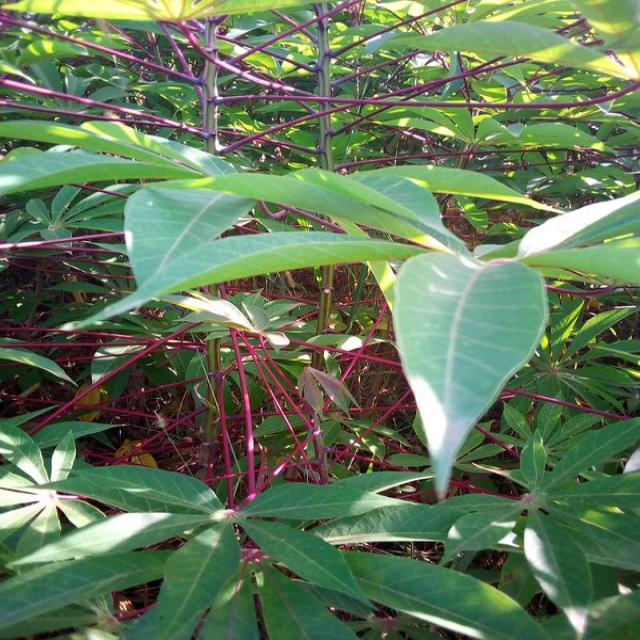cassava leaf: (390, 249, 549, 499)
